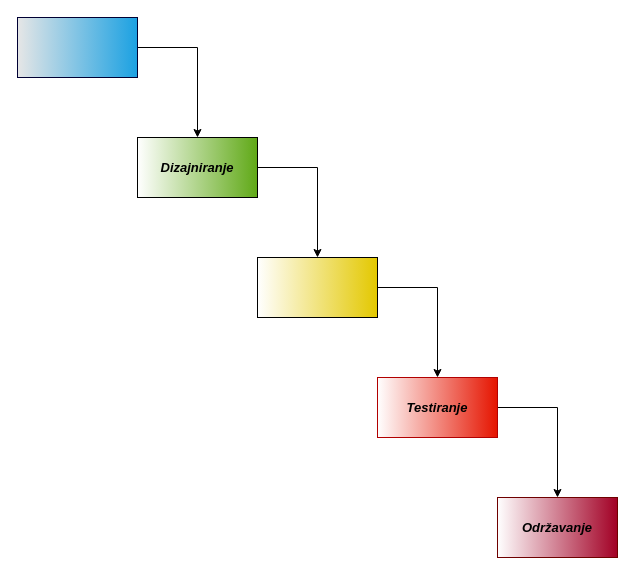
The diagram is 635 pixels wide and 575 high, and some of its shapes have lost their labels. Each missing label, with the centre of its shape:
"Implementacija" goes at [317,287].
"Planiranje" goes at [77,47].
